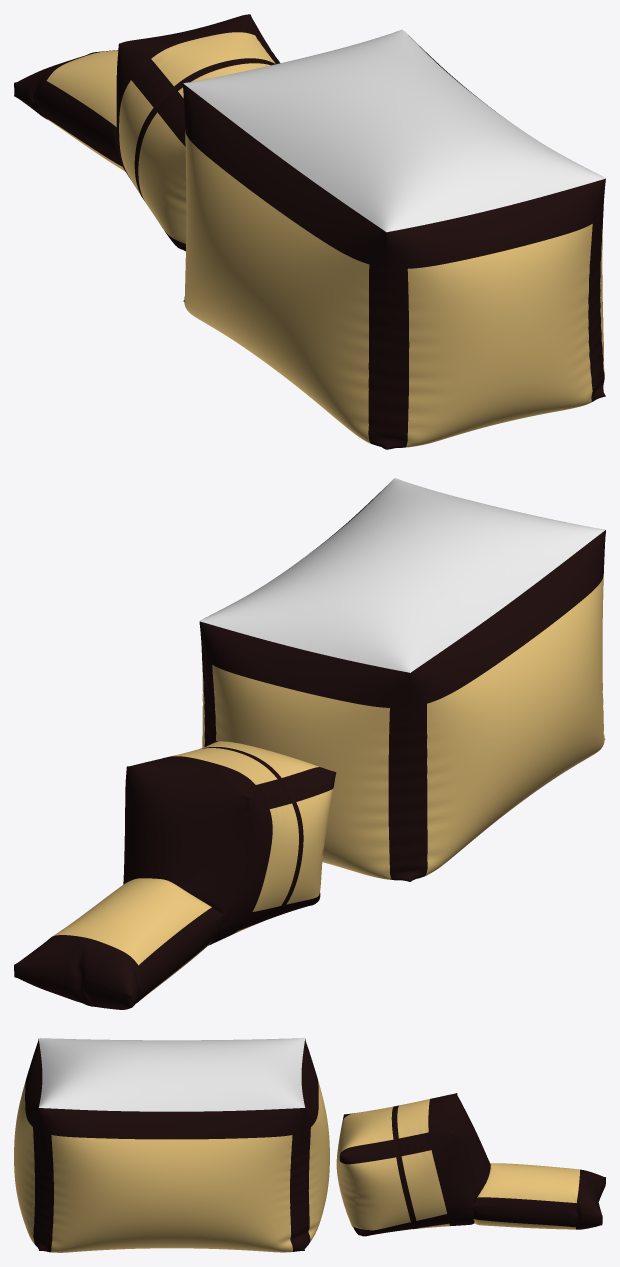
Rendered from Inflating Table Chair 1.fbx.
The picture shows the model from 3 angles, top to bottom: view 1: azimuth 30°, elevation 25°; view 2: azimuth 150°, elevation 25°; view 3: azimuth 270°, elevation 25°; orthographic projection. The views are drawn at different scales.
Visible parts, largest first — view 1: table.009_Pressure20.003, chair.009_Pressure20.003; view 2: table.009_Pressure20.003, chair.009_Pressure20.003; view 3: table.009_Pressure20.003, chair.009_Pressure20.003.
Part boxes in pixels (left/top/right/bottom): table.009_Pressure20.003: left=183, top=29, right=605, bottom=449; chair.009_Pressure20.003: left=14, top=14, right=280, bottom=251; table.009_Pressure20.003: left=199, top=478, right=605, bottom=881; chair.009_Pressure20.003: left=14, top=740, right=336, bottom=1009; table.009_Pressure20.003: left=14, top=1038, right=329, bottom=1252; chair.009_Pressure20.003: left=336, top=1093, right=605, bottom=1236.
Size of what is drawn, in the model's own units: 139 by 108 by 351.
